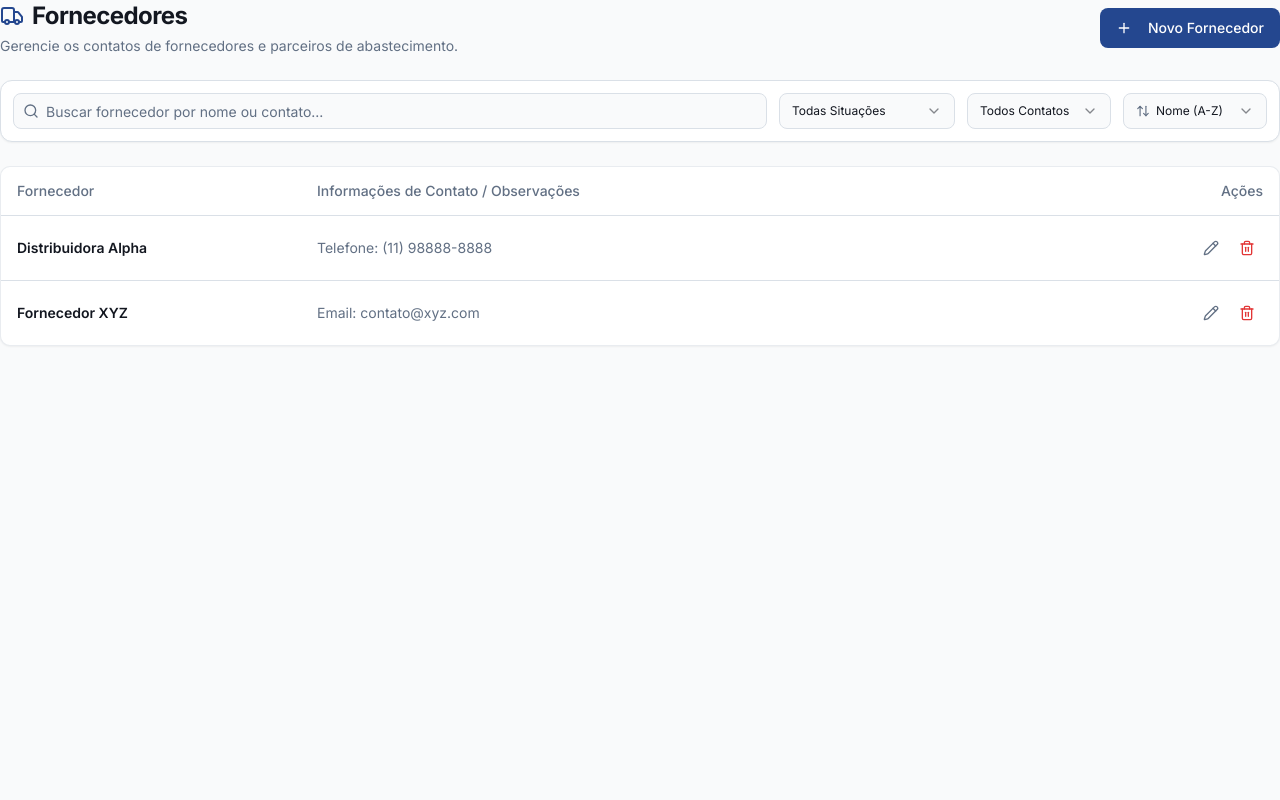
Test case: Suppliers CRM Component › deve exibir erros de validação no formulário ao tentar cadastrar fornecedor sem nome
Expected: the text "Distribuidora Alpha" is shown, [1,215,301,280]
Click the button "Novo Fornecedor": [1190, 28] box [1100,8,1279,48]
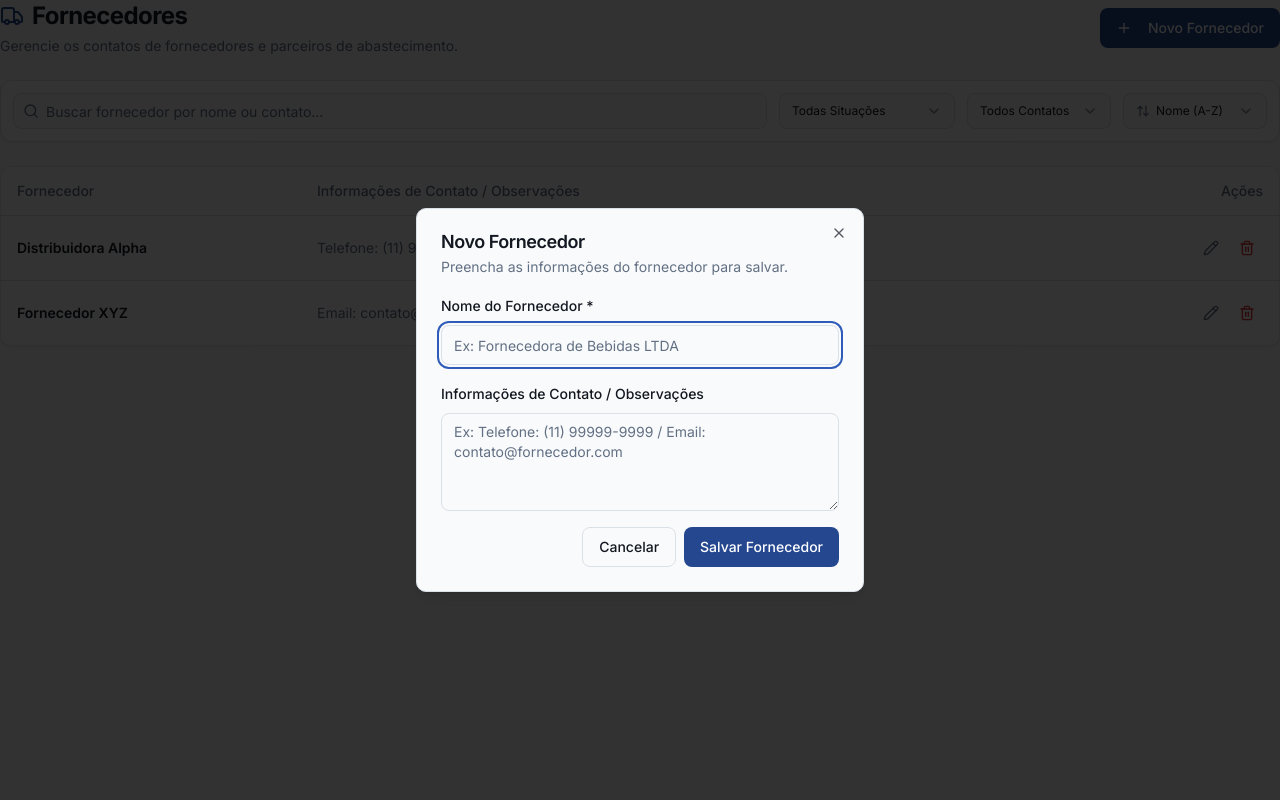
# Clicar em Salvar sem preencher nada
Click the button "Salvar Fornecedor": [762, 547] box [684,527,839,567]
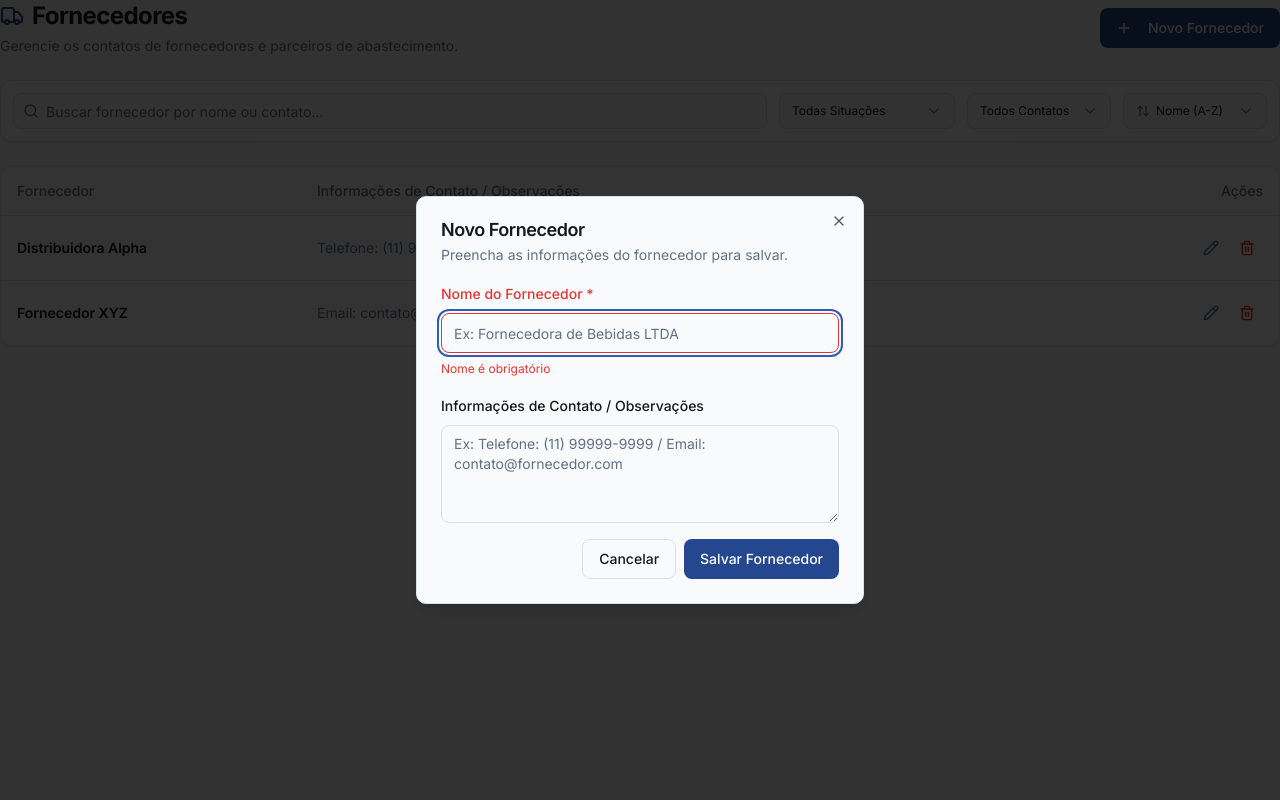
Now the text "Nome é obrigatório" is shown, box [441,361,550,376]
